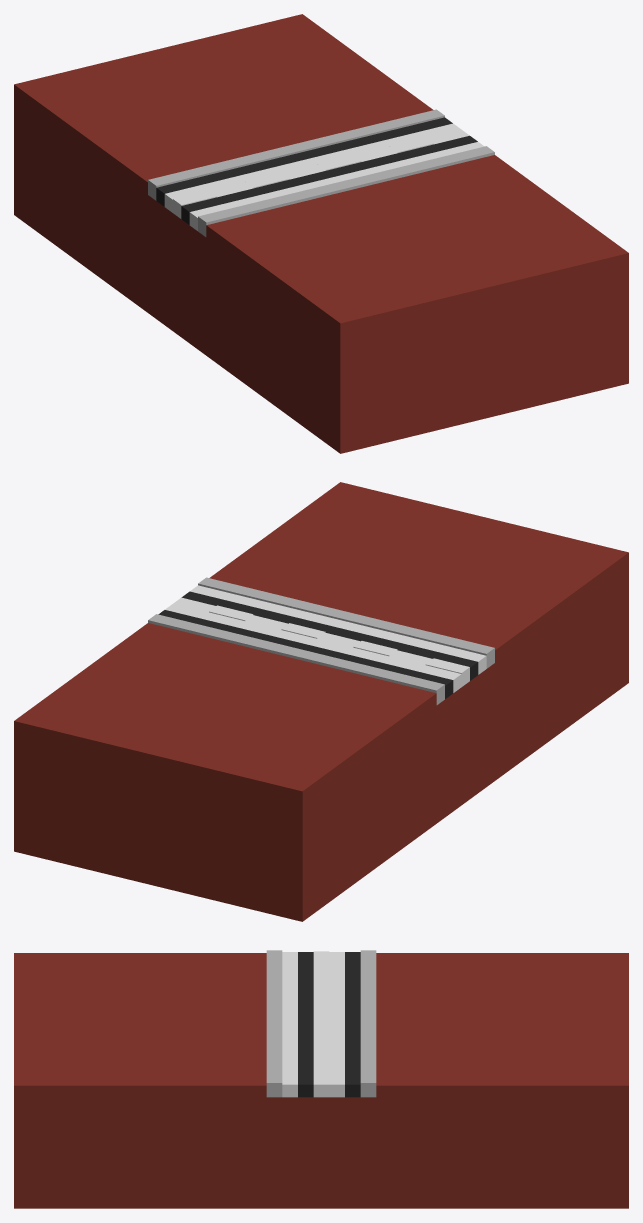
Rendered from road.fbx.
3 renders of one model, top to bottom at view 1: azimuth 30°, elevation 25°; view 2: azimuth 150°, elevation 25°; view 3: azimuth 270°, elevation 25°, orthographic. The views are drawn at different scales.
Visible parts, largest first — view 1: Cube, Cube.006, Cube.005, Cube.002, Cube.003, Cube.001, Cube.004, Cube.008, Cube.007; view 2: Cube, Cube.005, Cube.006, Cube.001, Cube.004, Cube.003, Cube.002, Cube.008, Cube.007; view 3: Cube, Cube.005, Cube.006, Cube.001, Cube.002, Cube.003, Cube.004, Cube.007, Cube.008.
Boxes of the visible parts, bbox=[...] form: Cube: bbox=[14, 14, 628, 453]; Cube.006: bbox=[198, 146, 494, 236]; Cube.005: bbox=[148, 109, 444, 200]; Cube.002: bbox=[156, 117, 452, 206]; Cube.003: bbox=[181, 135, 477, 224]; Cube.001: bbox=[164, 123, 461, 212]; Cube.004: bbox=[189, 142, 484, 230]; Cube.008: bbox=[173, 137, 433, 217]; Cube.007: bbox=[173, 129, 469, 218]; Cube: bbox=[14, 482, 628, 921]; Cube.005: bbox=[148, 614, 444, 704]; Cube.006: bbox=[198, 577, 494, 668]; Cube.001: bbox=[165, 603, 461, 692]; Cube.004: bbox=[190, 585, 486, 674]; Cube.003: bbox=[181, 591, 478, 680]; Cube.002: bbox=[158, 610, 453, 698]; Cube.008: bbox=[209, 605, 469, 685]; Cube.007: bbox=[173, 597, 469, 686]; Cube: bbox=[14, 953, 628, 1208]; Cube.005: bbox=[360, 950, 376, 1097]; Cube.006: bbox=[266, 950, 282, 1097]; Cube.001: bbox=[329, 952, 344, 1097]; Cube.002: bbox=[345, 952, 360, 1097]; Cube.003: bbox=[298, 952, 313, 1097]; Cube.004: bbox=[282, 952, 297, 1097]; Cube.007: bbox=[313, 968, 329, 1097]; Cube.008: bbox=[313, 951, 329, 1067].
Bounding box in the file's own units: 4000 × 1765 × 7840.
